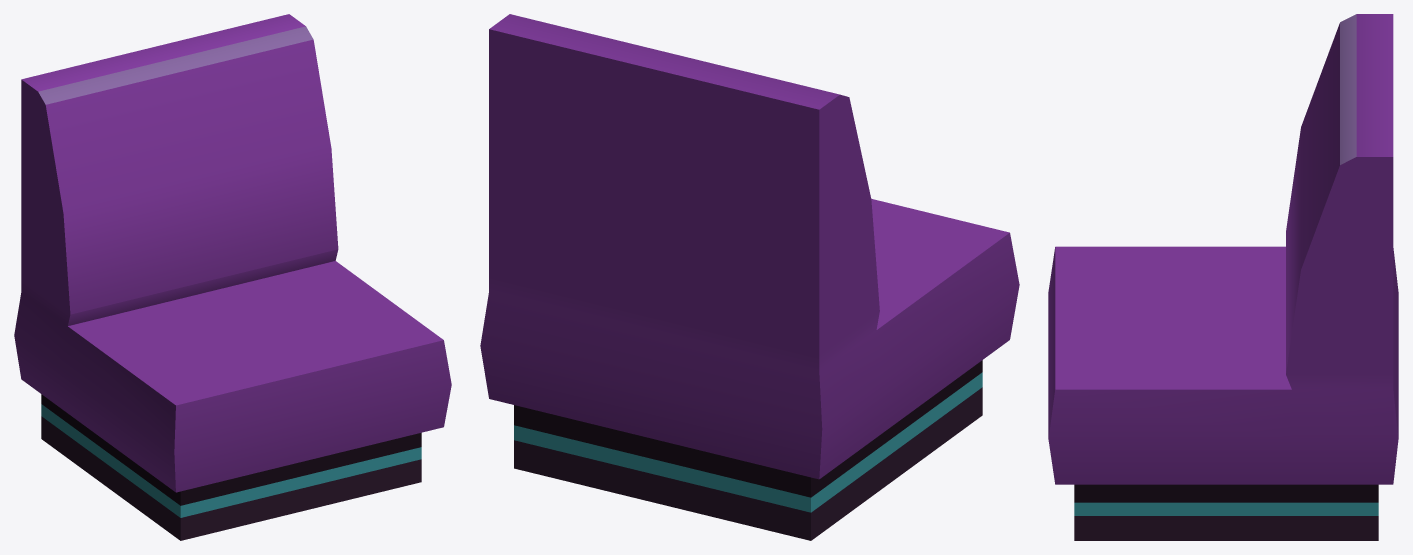
The model's file is Chair_Pink.fbx.
3 renders of one model, left to right at view 1: azimuth 30°, elevation 25°; view 2: azimuth 150°, elevation 25°; view 3: azimuth 270°, elevation 25°, orthographic. The views are drawn at different scales.
Visible parts, largest first — view 1: Cube.004; view 2: Cube.004; view 3: Cube.004.
Part boxes in pixels (x1,y1,x2,y2): Cube.004: (14,14,451,540); Cube.004: (480,14,1019,540); Cube.004: (1048,14,1398,540).
Size of the model in its own units: 100 by 123 by 100.
